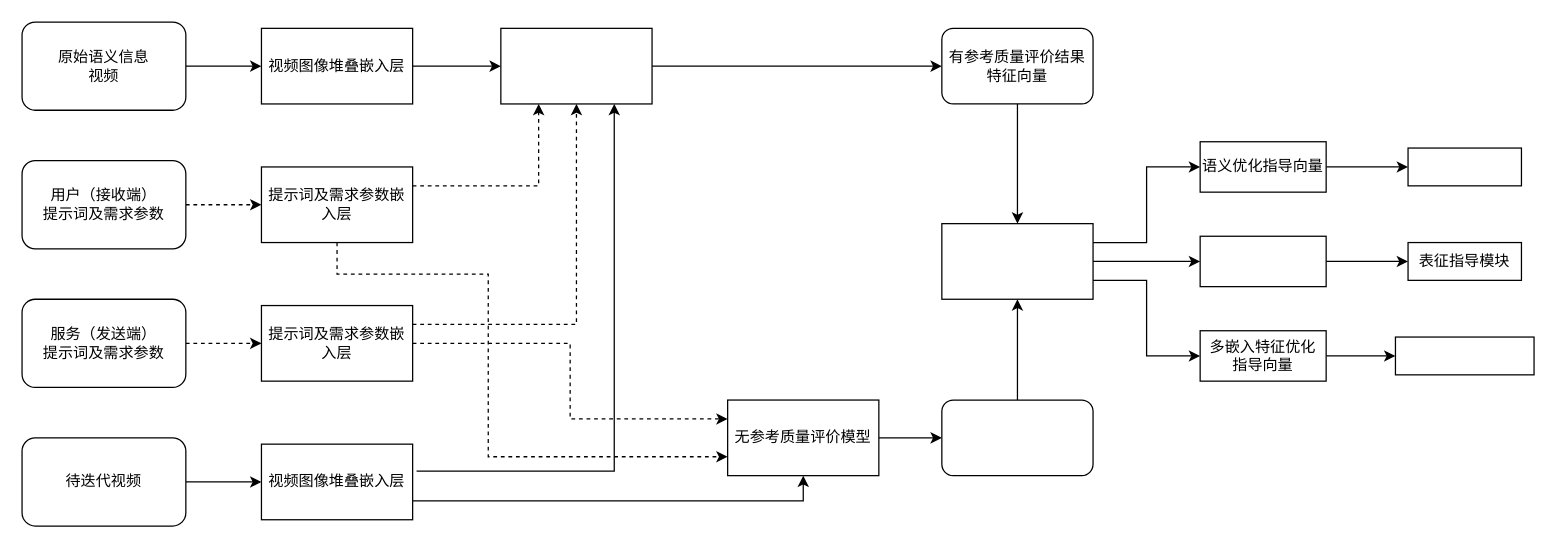
This 1556x548 diagram has some shape labels left out. Each missing label, with the box of its shape:
多嵌入特征优化模块: (1394, 336, 1534, 375)
无参考质量评价结果特征向量: (941, 399, 1093, 476)
有参考质量评价模型: (500, 27, 652, 104)
综合评价大语言模型: (941, 222, 1093, 299)
表征指导向量: (1199, 235, 1326, 287)
语义优化模块: (1407, 147, 1521, 186)
